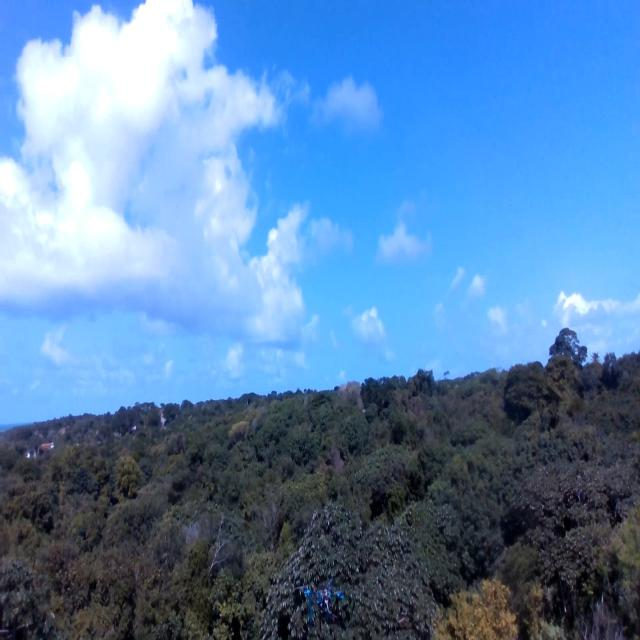-uav-: (297, 573, 345, 627)
